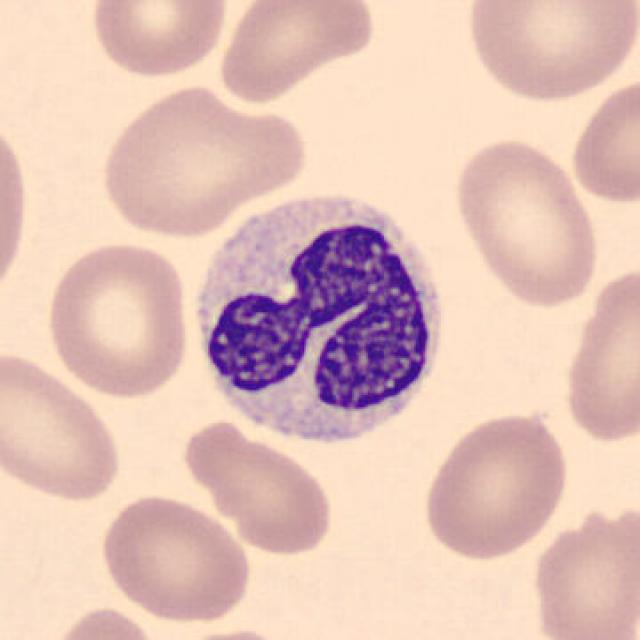Neutrophil: (181, 182, 455, 462)
RBC: (94, 81, 311, 240), (448, 134, 603, 310), (41, 236, 194, 400), (418, 408, 572, 562), (178, 416, 338, 561), (96, 490, 254, 626), (0, 346, 128, 504), (460, 0, 640, 106), (214, 0, 380, 108), (526, 499, 638, 640), (556, 258, 638, 450), (85, 0, 231, 81), (565, 74, 640, 208), (0, 110, 34, 308), (48, 603, 162, 640), (167, 626, 299, 640)
